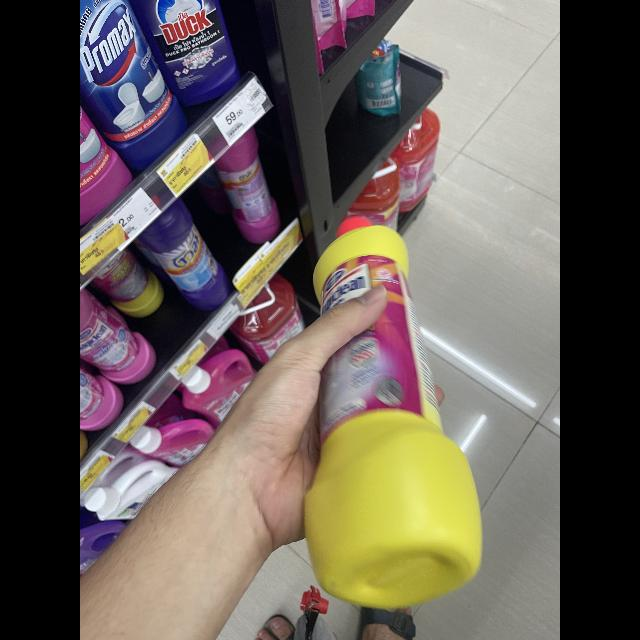chemical_plastic_bottle: (308, 213, 482, 614)
